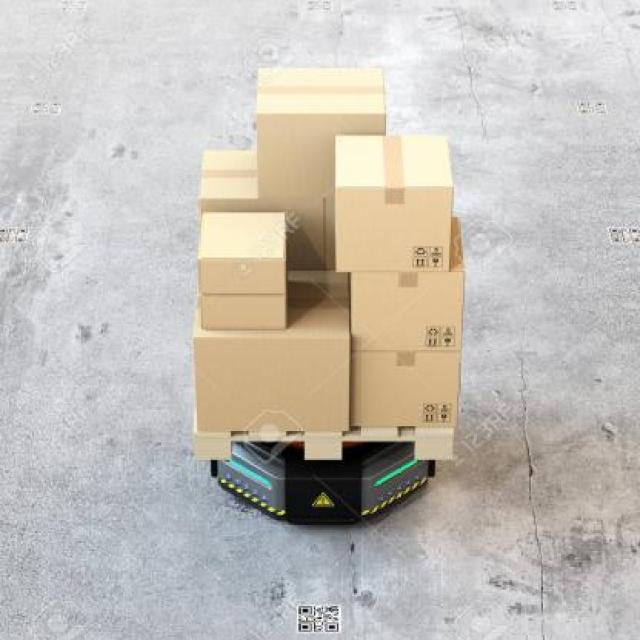box: (321, 122, 473, 278), (245, 56, 401, 205), (181, 297, 347, 434), (340, 242, 478, 348), (188, 210, 302, 330), (342, 337, 470, 437), (190, 146, 256, 228)
